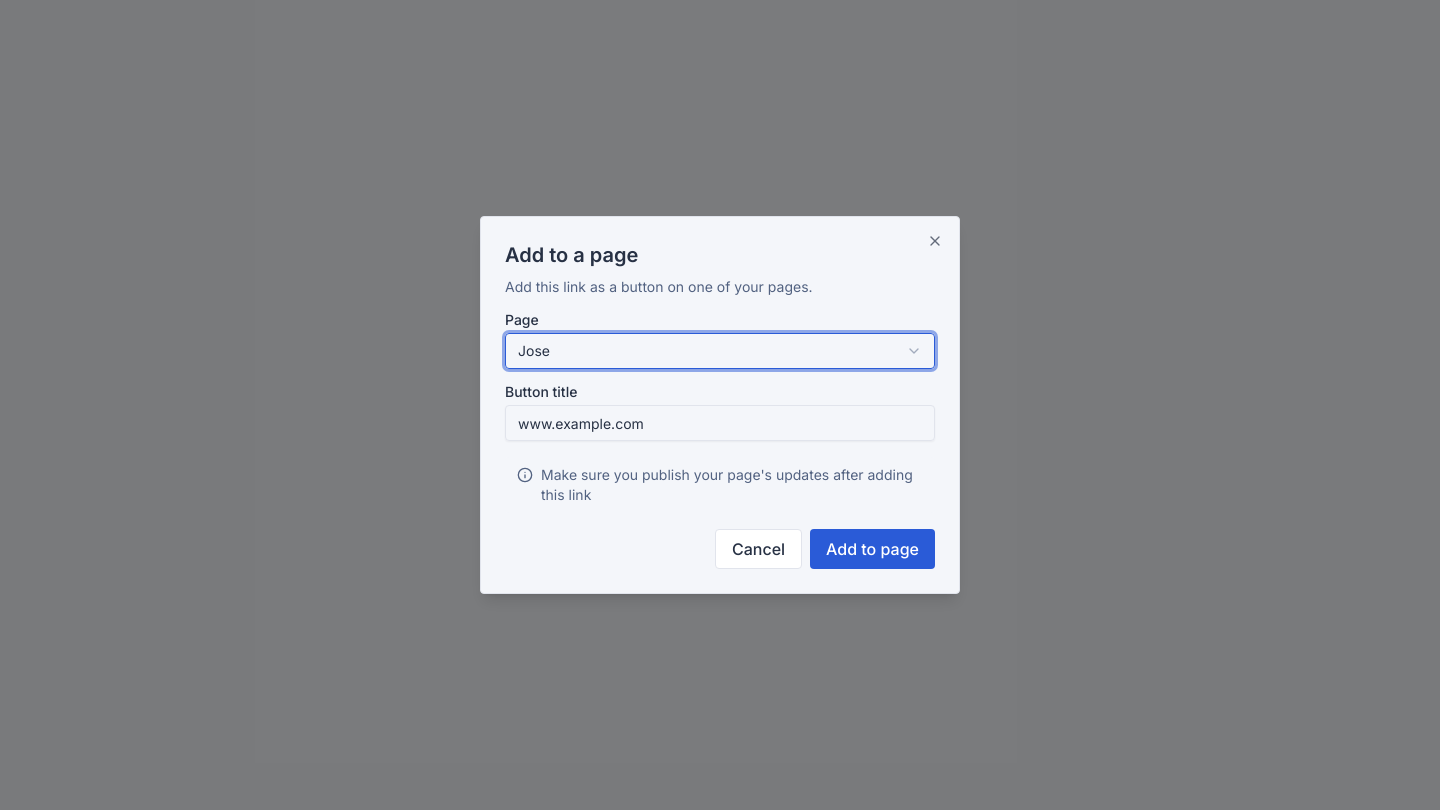
Test: AddToPageDialog › requires a title
The width and height of the screenshot is (1440, 810).
Clear the field labelled "Button title". click: (720, 423)
box: [505,405,935,441]
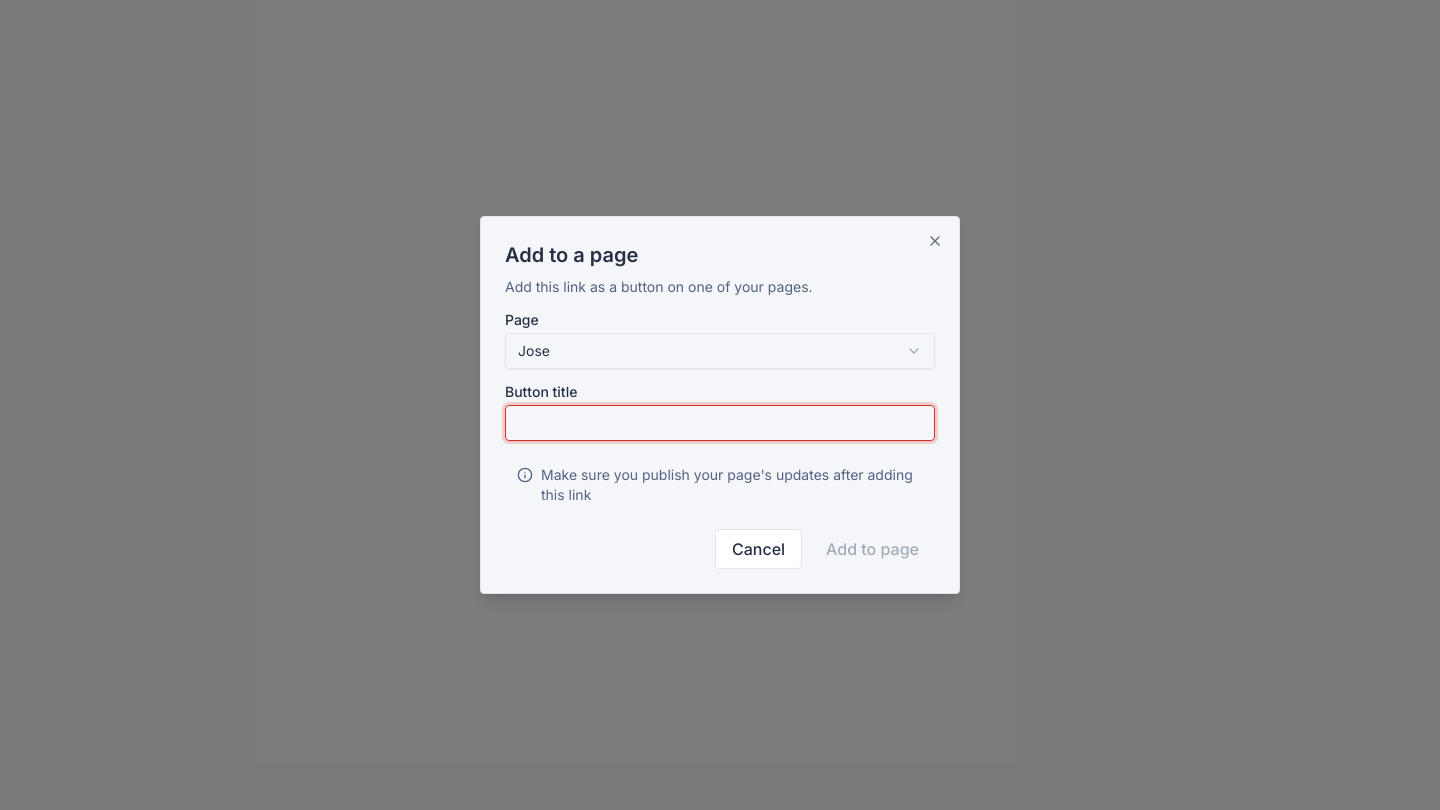
Now the button "Add to page" is disabled, box [810,529,935,569]
